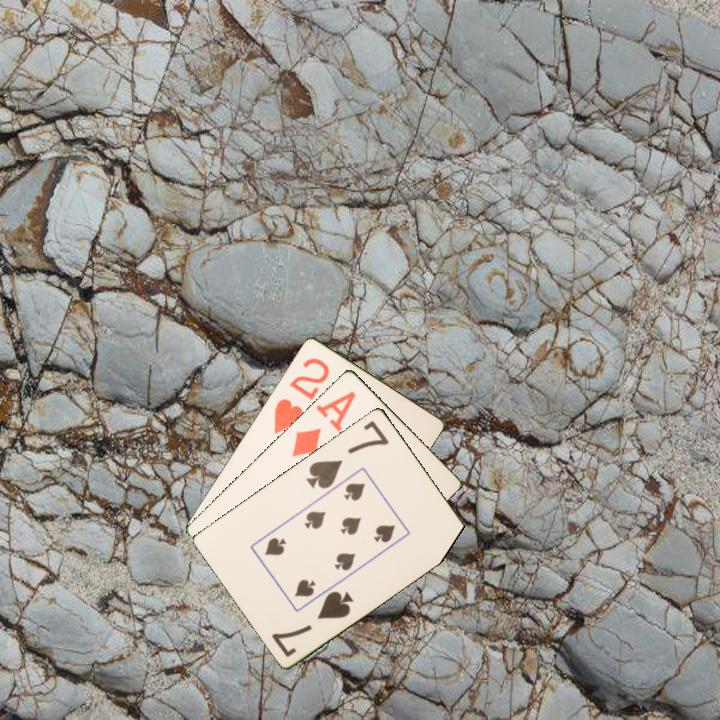2h: (270, 354, 332, 437)
7s: (302, 416, 392, 492), (268, 587, 357, 660)
Ad: (288, 387, 359, 460)
